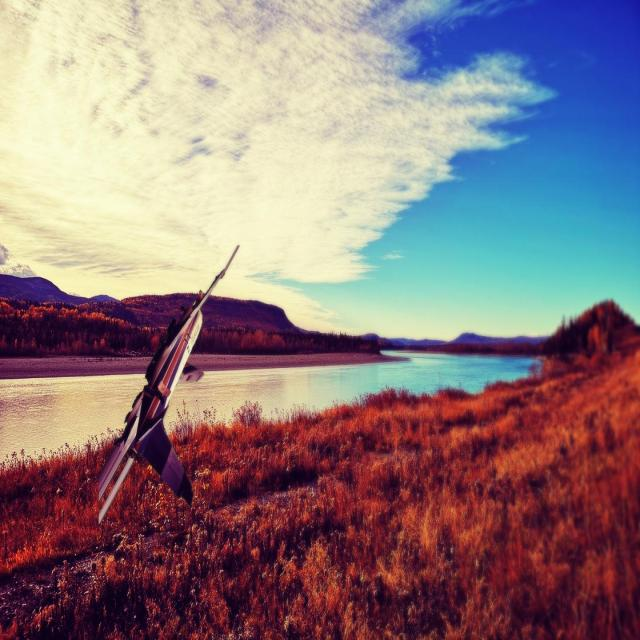airplane: (96, 243, 240, 524)
